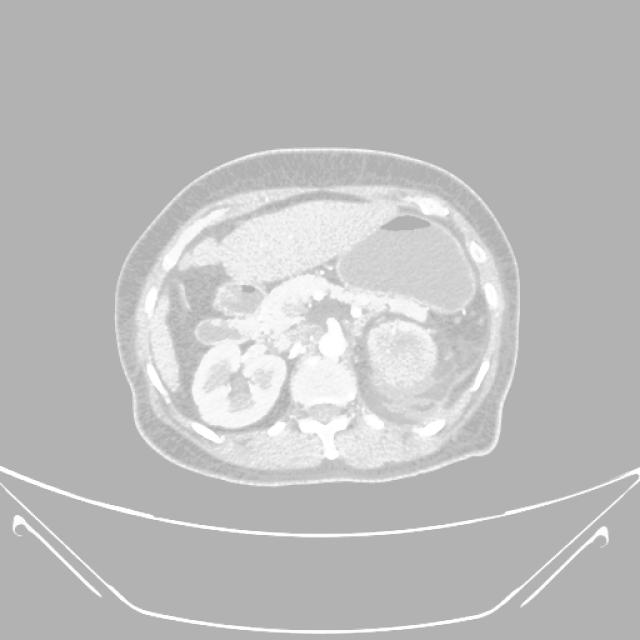TUMOR: (107, 198, 543, 391)
